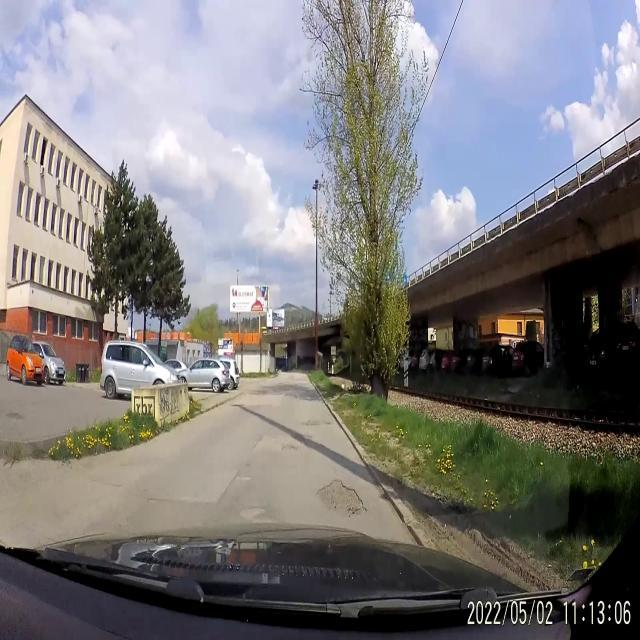Pothole: (312, 470, 369, 518), (299, 414, 335, 432), (238, 502, 266, 522), (279, 438, 300, 456), (236, 471, 252, 485), (146, 494, 162, 507)
